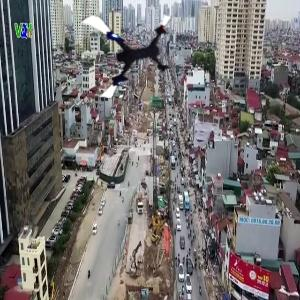drone: (79, 9, 177, 107)
